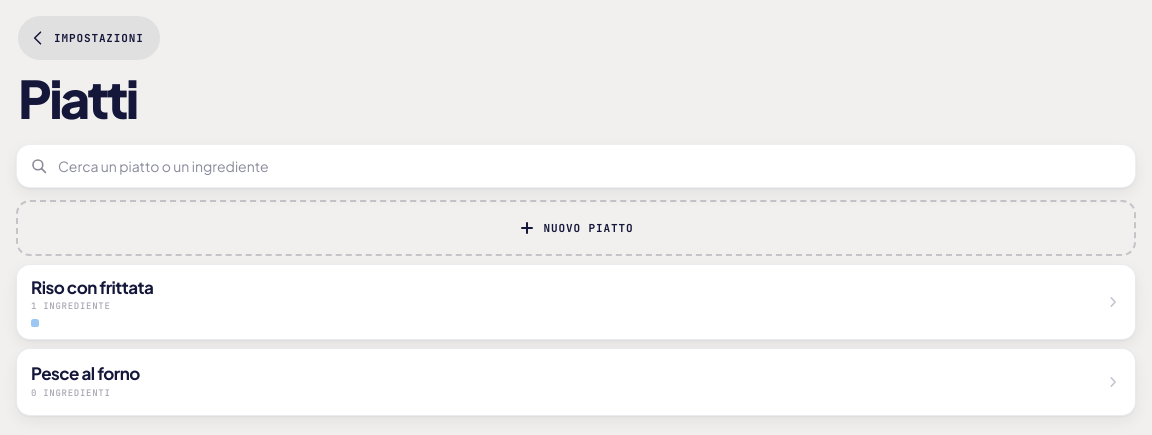
Scenario: ricerca piatti › filtra per nome, accenti e maiuscole ignorati
Expected: the text "Riso con frittata" is shown, [31,276,153,298]
Type "PÉSCE" into the search field labelled "Cerca un piatto o un ingrediente" at [576, 166], box [16,144,1136,188]
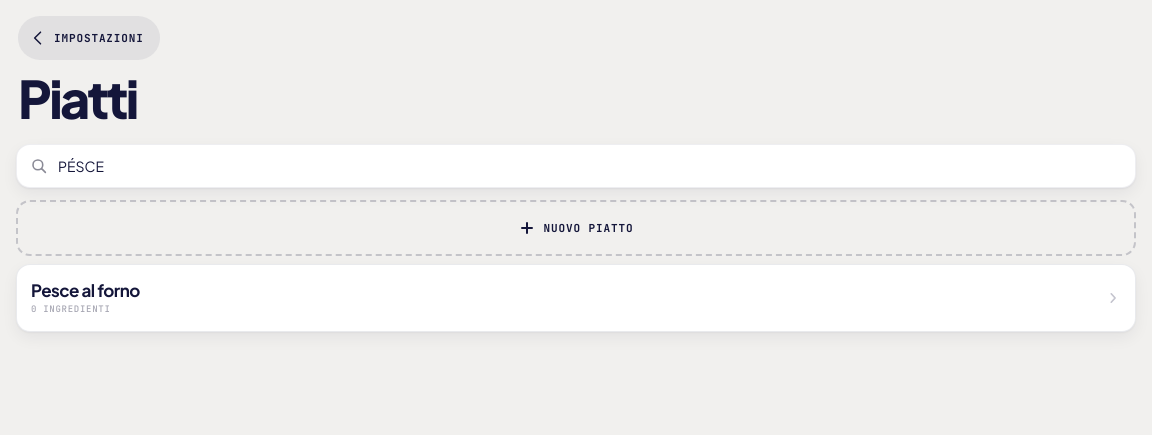
Expected: the text "Pesce al forno" is shown, [31,278,140,300]
Now the link "Riso con frittata" is gone
